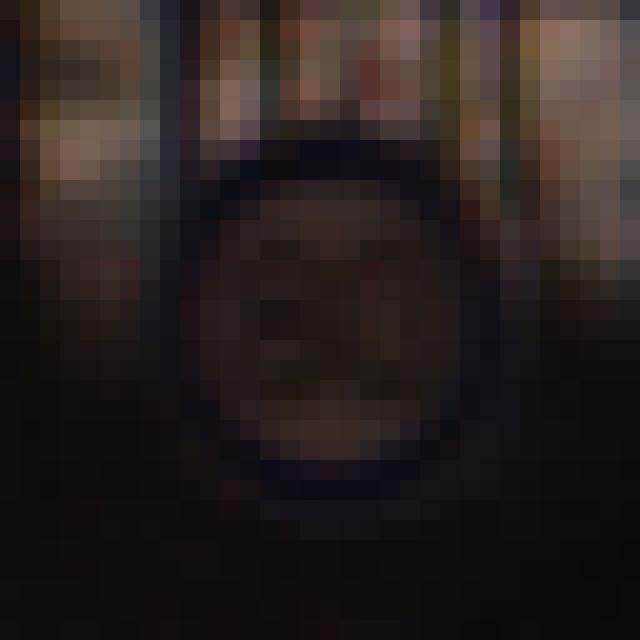SPEED-LIMIT-80: (147, 141, 505, 492)
